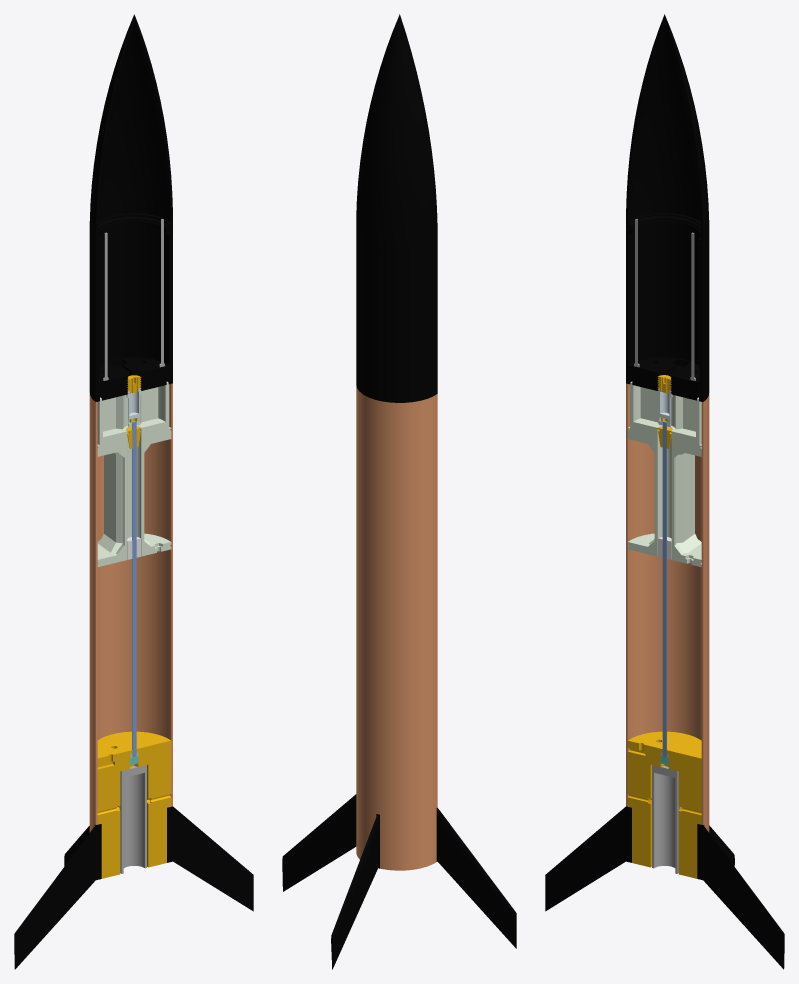
Rendered from rocket-section.glb.
3 renders of one model, left to right at view 1: azimuth 30°, elevation 25°; view 2: azimuth 150°, elevation 25°; view 3: azimuth 330°, elevation 25°, orthographic. The views are drawn at different scales.
Visible parts, largest first — view 1: перо 2 ново, фузелаж, принт пито камера, дъно, Ос Ел. 2, stud; view 2: фузелаж, перо 2 ново; view 3: перо 2 ново, фузелаж, принт пито камера, дъно, Ос Ел. 2, stud.
Part boxes in pixels (x1,y1,x2,y2): перо 2 ново: [14, 14, 253, 969]; фузелаж: [89, 383, 172, 832]; принт пито камера: [97, 381, 171, 566]; дъно: [97, 375, 171, 878]; Ос Ел. 2: [103, 219, 164, 873]; stud: [132, 421, 136, 757]; фузелаж: [356, 386, 437, 870]; перо 2 ново: [282, 14, 516, 969]; перо 2 ново: [545, 14, 784, 969]; фузелаж: [626, 383, 709, 832]; принт пито камера: [627, 381, 701, 567]; дъно: [627, 375, 701, 878]; Ос Ел. 2: [634, 219, 695, 873]; stud: [662, 421, 666, 757].
Size of the model in its own units: 0.3398 by 1.26 by 0.17.
